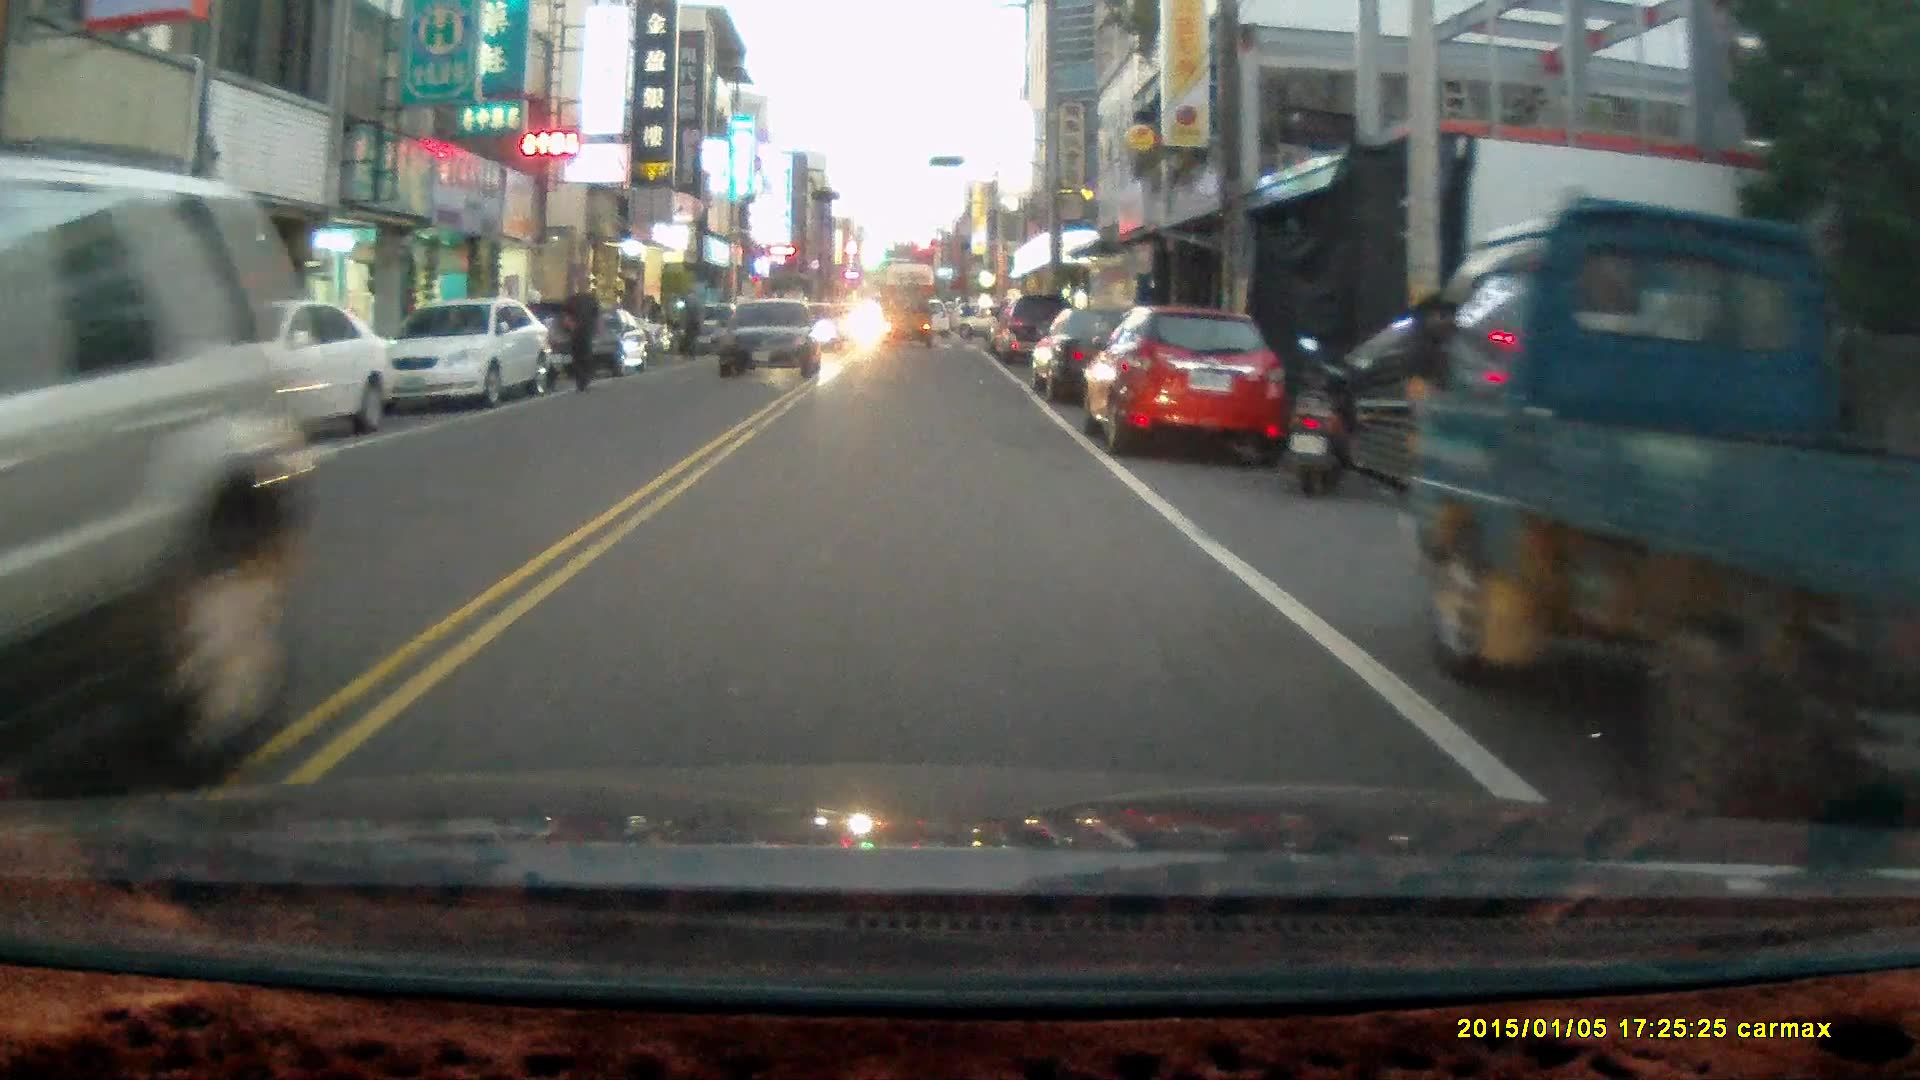pedestrian: (559, 271, 601, 396), (677, 290, 702, 356)
vehicle: (1403, 200, 1920, 819), (1, 152, 317, 792), (1084, 304, 1287, 463), (379, 294, 550, 408), (1030, 294, 1194, 405), (719, 295, 825, 380), (993, 290, 1086, 369), (557, 306, 645, 379), (876, 283, 936, 350)
